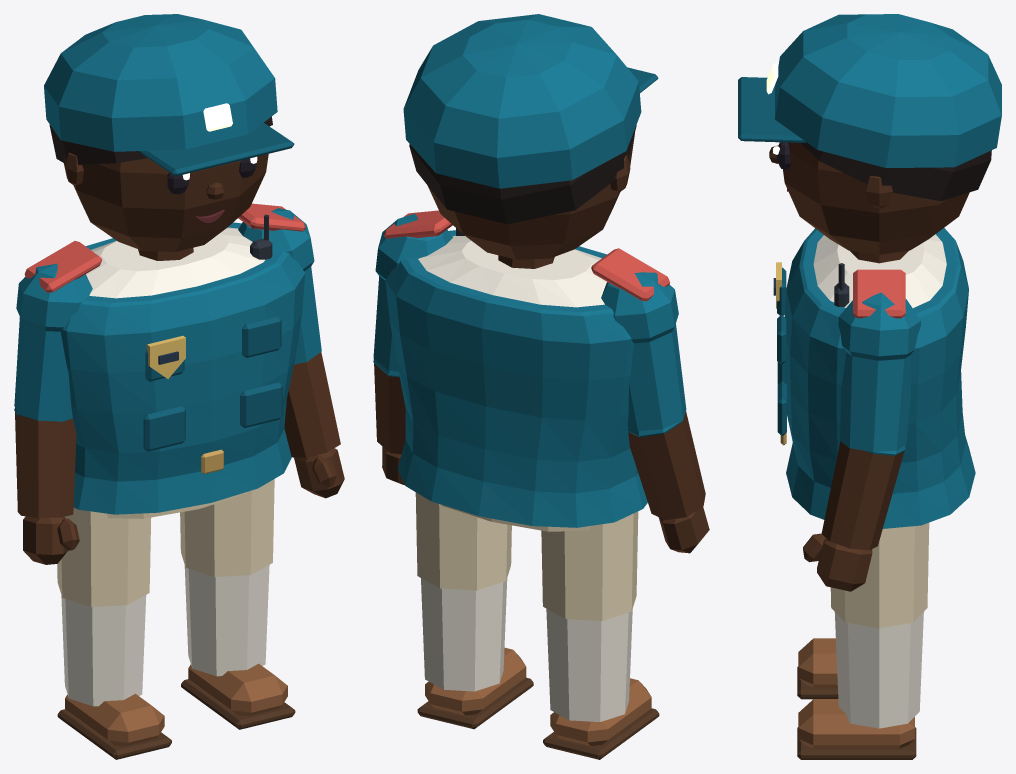
The model's file is sic_pel.glb.
The picture shows the model from 3 angles, left to right: view 1: azimuth 30°, elevation 25°; view 2: azimuth 150°, elevation 25°; view 3: azimuth 270°, elevation 25°; orthographic projection.
Visible parts, largest first — view 1: jacke, kopfbedeckung, bein_r, bein_l, arm_r, kopf, arm_l, torso, taschen, schuh_l, schuh_r, schulterklappen (+6 smaller); view 2: jacke, kopfbedeckung, bein_r, bein_l, arm_r, torso, haare, kopf, arm_l, schuh_r, schuh_l, schulterklappen (+1 smaller); view 3: kopfbedeckung, jacke, arm_l, bein_l, kopf, schuh_l, torso, haare, hand_l, schuh_r, schulterklappen, taschen (+2 smaller).
Part boxes in pixels (x1=…): jacke: x1=61, y1=222, x2=305, y2=514; kopfbedeckung: x1=44, y1=14, x2=294, y2=176; bein_r: x1=57, y1=507, x2=151, y2=706; bein_l: x1=180, y1=479, x2=274, y2=676; arm_r: x1=14, y1=263, x2=92, y2=517; kopf: x1=63, y1=152, x2=268, y2=251; arm_l: x1=238, y1=208, x2=340, y2=457; torso: x1=86, y1=227, x2=264, y2=298; taschen: x1=143, y1=316, x2=282, y2=451; schuh_l: x1=181, y1=663, x2=295, y2=729; schuh_r: x1=57, y1=693, x2=171, y2=759; schulterklappen: x1=24, y1=203, x2=305, y2=292; jacke: x1=385, y1=230, x2=647, y2=527; kopfbedeckung: x1=403, y1=14, x2=658, y2=188; bein_r: x1=541, y1=511, x2=638, y2=721; bein_l: x1=415, y1=492, x2=511, y2=691; arm_r: x1=601, y1=272, x2=705, y2=520; torso: x1=418, y1=235, x2=606, y2=307; haare: x1=409, y1=125, x2=636, y2=224; kopf: x1=428, y1=133, x2=634, y2=259; arm_l: x1=373, y1=214, x2=452, y2=454; schuh_r: x1=543, y1=678, x2=659, y2=759; schuh_l: x1=417, y1=647, x2=533, y2=729; schulterklappen: x1=384, y1=210, x2=669, y2=301; kopfbedeckung: x1=738, y1=14, x2=1001, y2=167; jacke: x1=784, y1=228, x2=975, y2=528; arm_l: x1=821, y1=292, x2=921, y2=550; bein_l: x1=830, y1=522, x2=929, y2=728; kopf: x1=783, y1=142, x2=969, y2=254; schuh_l: x1=797, y1=699, x2=916, y2=759; torso: x1=813, y1=234, x2=946, y2=307; haare: x1=801, y1=142, x2=991, y2=201; hand_l: x1=803, y1=533, x2=872, y2=591; schuh_r: x1=797, y1=638, x2=838, y2=699; schulterklappen: x1=853, y1=269, x2=905, y2=318; taschen: x1=777, y1=267, x2=786, y2=435.
Bounding box in the file's own units: 0.0127 × 0.0259 × 0.00903.
